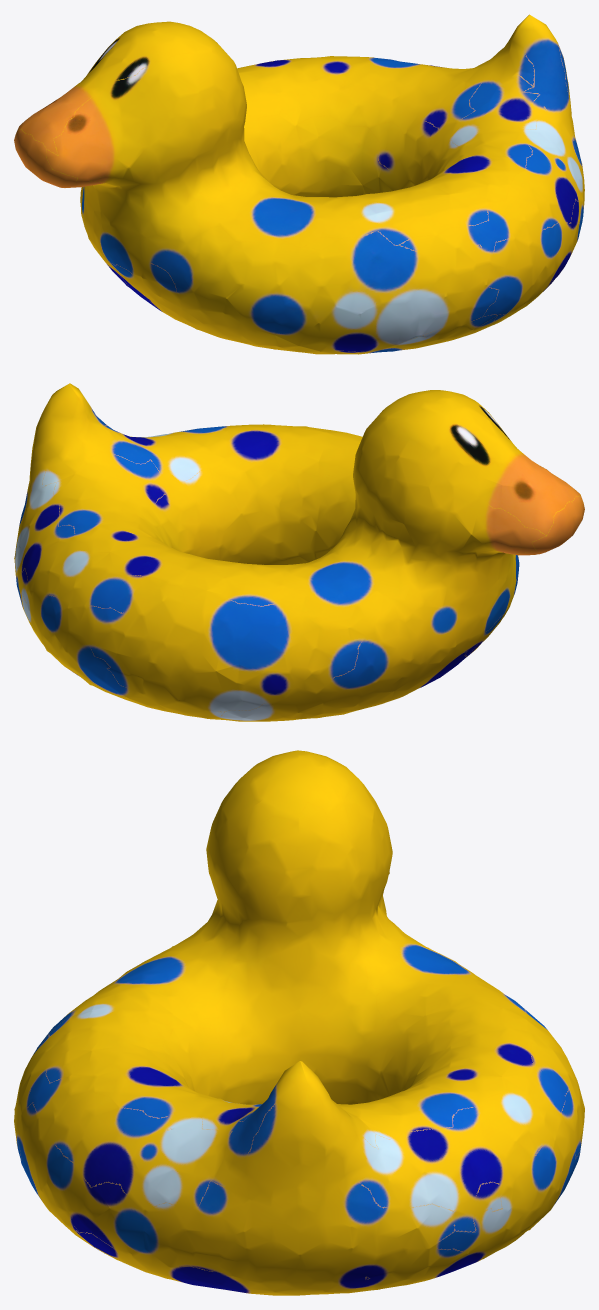
The picture shows the model from 3 angles, top to bottom: view 1: azimuth 30°, elevation 25°; view 2: azimuth 150°, elevation 25°; view 3: azimuth 270°, elevation 25°; orthographic projection. The views are drawn at different scales.
Parts seen in each view (by area): view 1: pMesh1; view 2: pMesh1; view 3: pMesh1.
Boxes of the visible parts, <box> form: pMesh1: <box>14,14,584,354</box>; pMesh1: <box>14,383,584,721</box>; pMesh1: <box>14,750,584,1295</box>.
Size of the model in its own units: 1.86 by 0.9742 by 1.47.
Materials: 1 (1 with a texture image).
